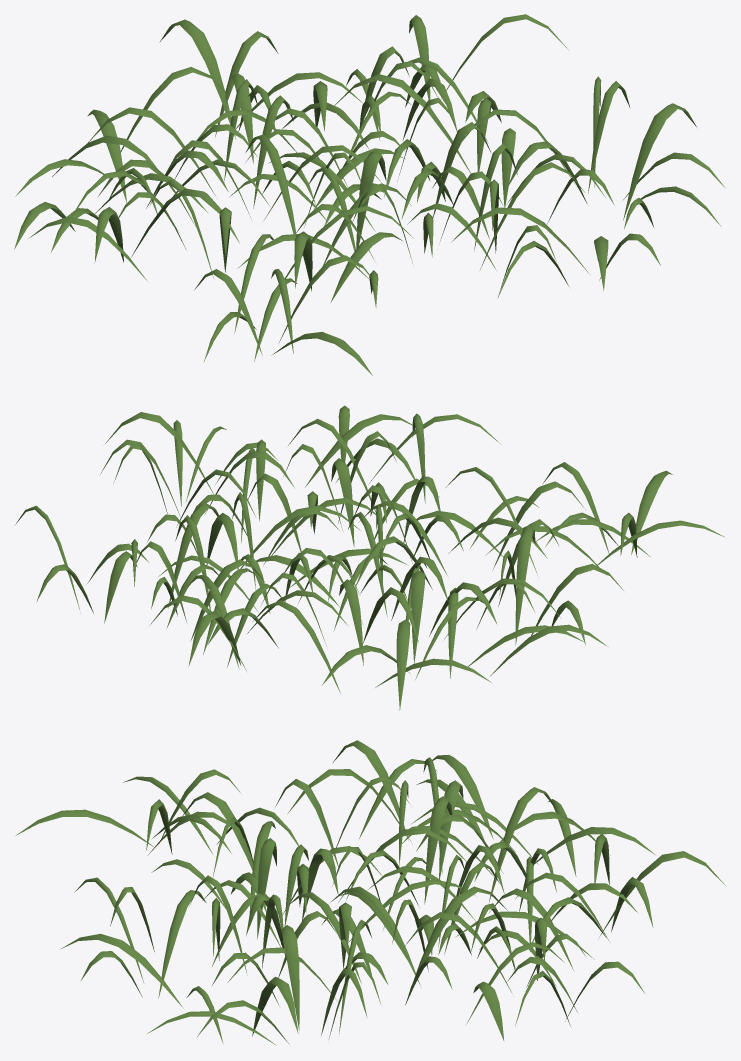
The model's file is groundcover_0.glb.
3 views of the same model, one above another, from view 1: azimuth 30°, elevation 25°; view 2: azimuth 150°, elevation 25°; view 3: azimuth 270°, elevation 25° (orthographic). The views are drawn at different scales.
Visible parts, largest first — view 1: Original_planted_groundcover; view 2: Original_planted_groundcover; view 3: Original_planted_groundcover.
Part boxes in pixels (x1,y1,x2,y2): Original_planted_groundcover: (14, 14, 725, 375); Original_planted_groundcover: (15, 405, 724, 710); Original_planted_groundcover: (15, 740, 725, 1045).
Size of the model in its own units: 1.67 by 0.2482 by 1.74.
